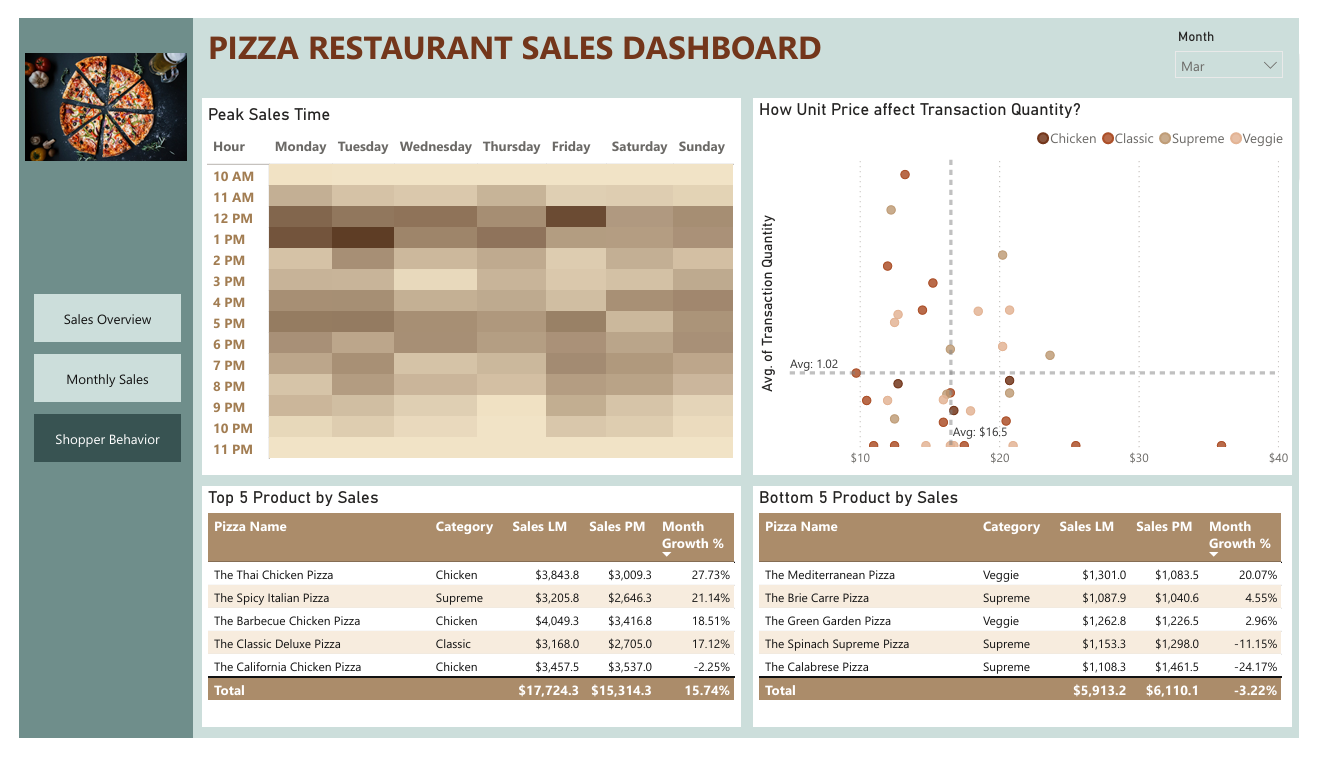

The page's visual inventory and layout, read from the dashboard file:
{"tool":"powerbi","page":{"name":"Shopper Behavior","canvas":[1280,720],"ordinal":2},"visuals":[{"type":"shape","box":[0,0,174.1,719.8],"z":0},{"type":"textbox","box":[183,0,1097,65],"z":1000},{"type":"image","box":[5.8,33.1,162.4,111.9],"z":2000},{"type":"slicer","fields":{"Values":["Calendar.Month"]},"box":[1145,5,128,60],"z":3000},{"type":"tableEx","title":"Top 5 Product by Sales","fields":{"Values":["pizza_sales.pizza_name","pizza_sales.pizza_category","pizza_sales.Sales LM","pizza_sales.Sales PM","pizza_sales.Month Growth %"]},"box":[182.9,467.8,538.8,241.2],"z":4000},{"type":"pivotTable","title":"Peak Sales Time","fields":{"Rows":["pizza_sales.Hour"],"Columns":["pizza_sales.Day of Week"],"Values":["Sum(pizza_sales.total_price)"]},"box":[182.9,79.8,538.8,377.4],"z":5000},{"type":"scatterChart","title":"How Unit Price affect Transaction Quantity?","fields":{"X":["pizza_sales.unit_price"],"Series":["pizza_sales.pizza_category"],"Y":["Avg(pizza_sales.quantity)"]},"box":[734.3,79.8,538.8,377.4],"z":6000},{"type":"tableEx","title":"Bottom 5 Product by Sales","fields":{"Values":["pizza_sales.pizza_name","pizza_sales.pizza_category","pizza_sales.Sales LM","pizza_sales.Sales PM","pizza_sales.Month Growth %"]},"box":[734.3,467.8,538.8,241.2],"z":7000},{"type":"pageNavigator","box":[12.6,274.3,149.8,171.2],"z":8000}]}

Visuals, with their boxes in screenshot pixels (x1, y1, x2, y2), scaled from the page's 1280x720 canvas onto the 1320x759 screenshot:
shape: <region>0, 0, 180, 758</region>
textbox: <region>189, 0, 1319, 69</region>
image: <region>6, 35, 173, 153</region>
slicer - Calendar.Month: <region>1181, 5, 1313, 69</region>
"Top 5 Product by Sales" tableEx: <region>189, 493, 744, 747</region>
"Peak Sales Time" pivotTable: <region>189, 84, 744, 482</region>
"How Unit Price affect Transaction Quantity?" scatterChart: <region>757, 84, 1313, 482</region>
"Bottom 5 Product by Sales" tableEx: <region>757, 493, 1313, 747</region>
pageNavigator: <region>13, 289, 167, 470</region>
